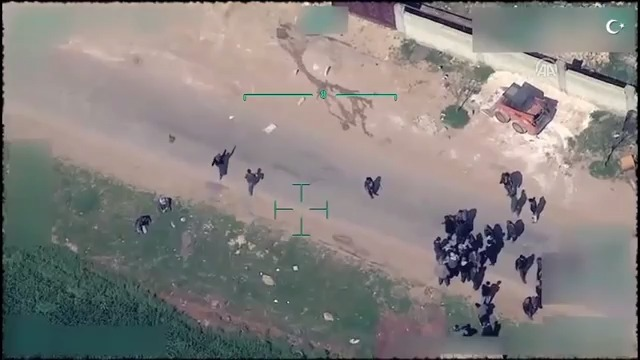insan: (129, 210, 153, 238), (513, 252, 532, 285), (243, 162, 259, 196), (211, 144, 226, 178), (157, 190, 175, 216), (527, 190, 541, 221), (360, 174, 376, 199), (480, 278, 493, 302)
